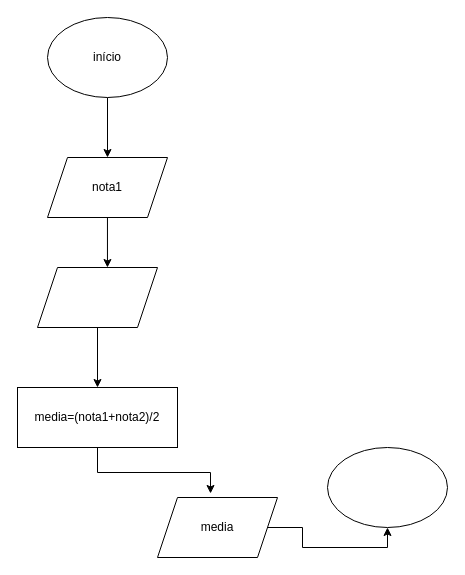
Image size: 465x575. Some labels were removed from this diagram. The shapes that lost their labels are listed below. From the top down, each one's box as (x1, y1, x2, y2) in pixels, then its label:
(36, 266, 158, 328): nota2
(326, 446, 448, 528): fim
